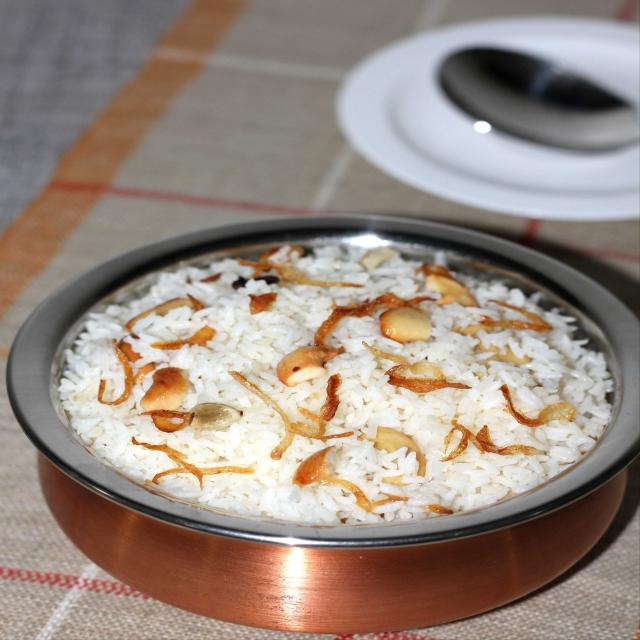nei satham: (46, 191, 617, 554)
